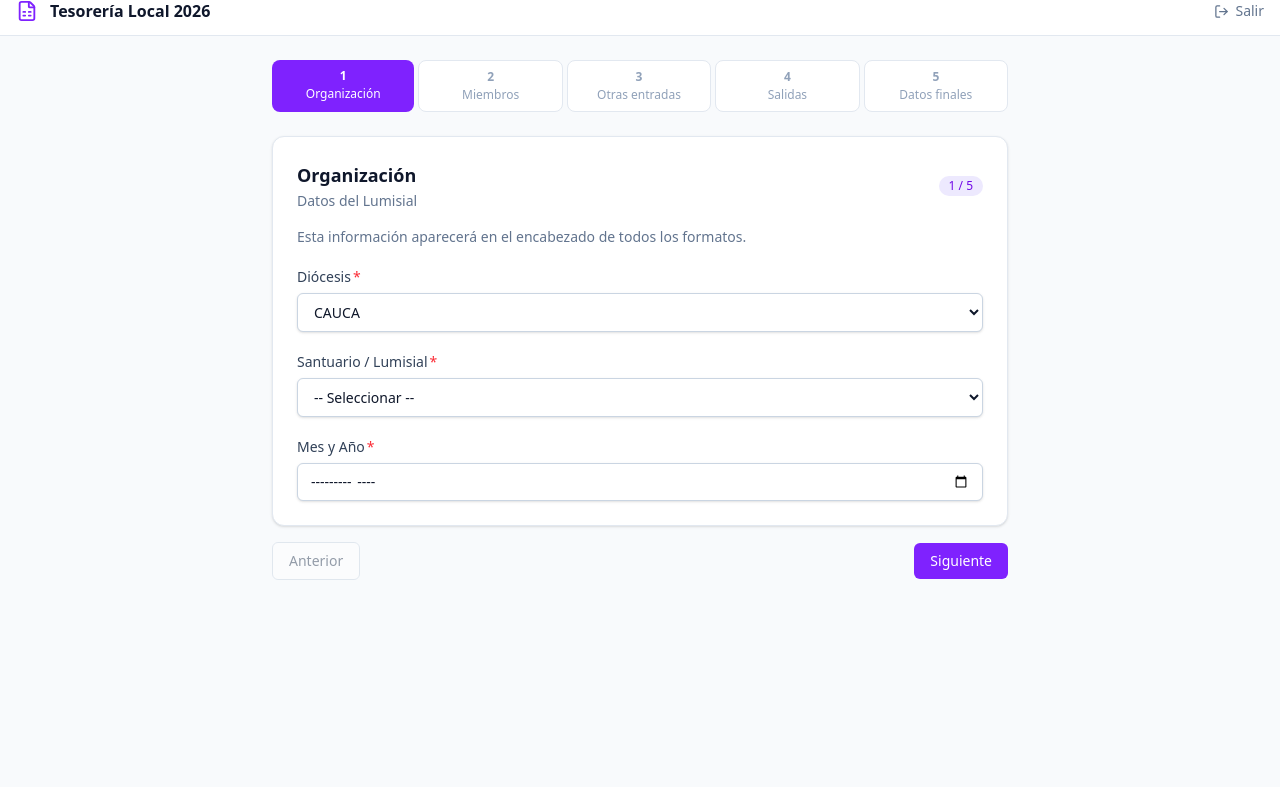
Test: FormPage — session expiry on generate › shows error message when generateExcel fails for non-auth reasons
This screenshot has width=1280, height=787.
What coordinates should you click on to do the following:
click the button "5 Datos finales"
I would click on:
 (936, 86)
Its box is [864, 60, 1008, 112].
(page scrolled)
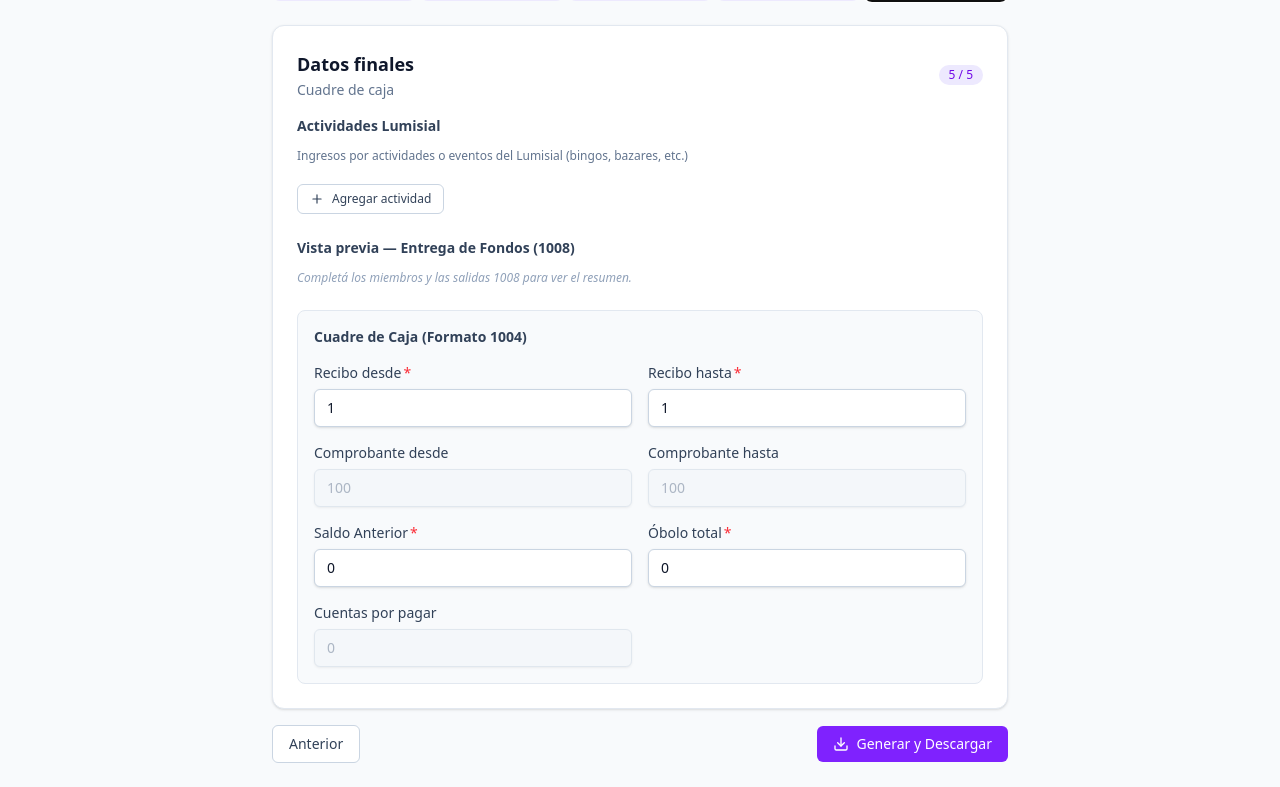
What coordinates should you click on to do the following:
click the button "Generar y Descargar"
I would click on:
 (912, 744)
Its box is [816, 726, 1008, 762].
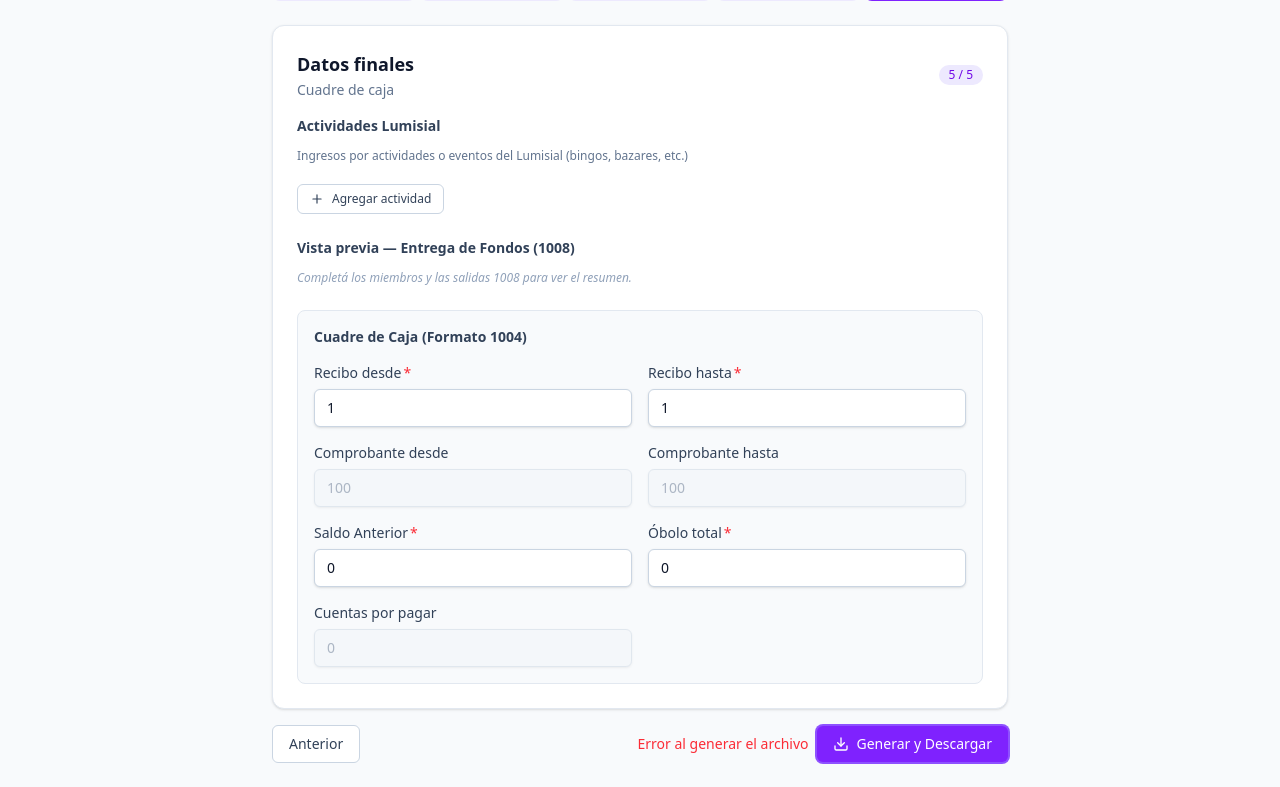
Now the text "Error al generar el archivo" is shown, box [638, 734, 808, 754]
